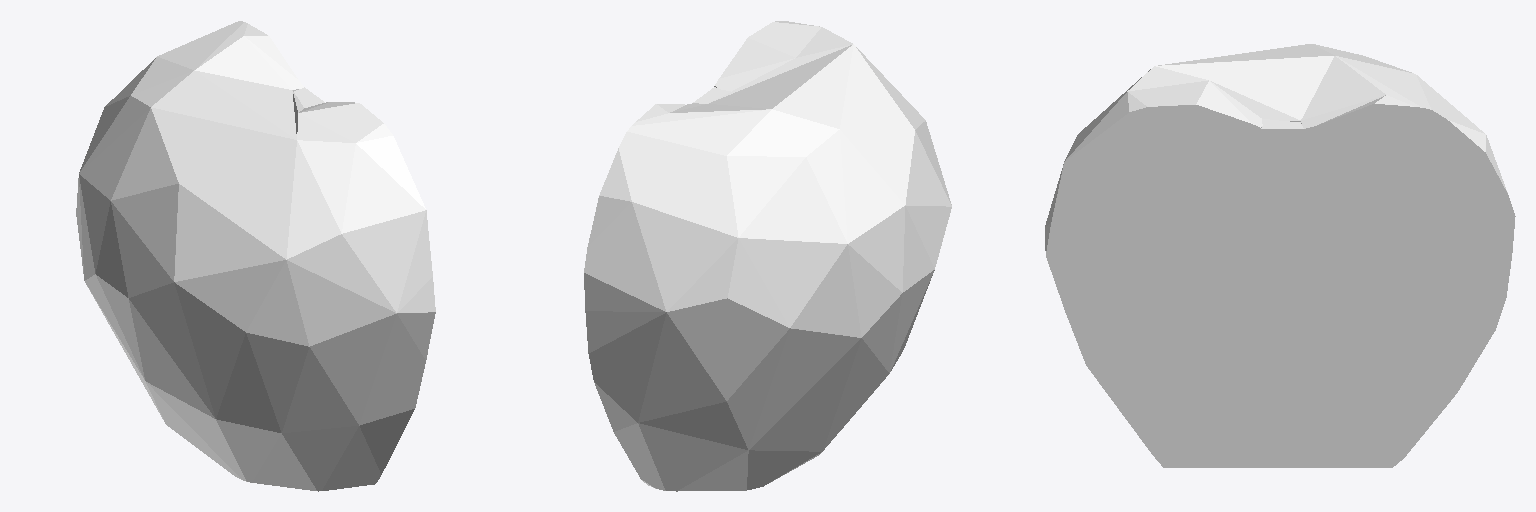
robot.urdf — cube.urdf:
<?xml version="0.0" ?>
<robot name="cube.urdf">
  <link name="baseLink">
    <contact>
      <lateral_friction value="0.3"/>
      <stiffness value="10000.0"/>
    </contact>
    <inertial>
      <origin rpy="0 0 0" xyz="0 0 0"/>
       <mass value="0.1"/>
       <inertia ixx="1" ixy="0" ixz="0" iyy="1" iyz="0" izz="1"/>
    </inertial>
    <visual>
      <origin rpy="0 0 0" xyz="0 0 0"/>
      <geometry>
            <mesh filename="apple_left.stl" scale="0.001 0.001 0.001"/>
      </geometry>
       <material name="white">
        <color rgba="1 1 1 1"/>
      </material>
    </visual>
    <collision>
      <origin rpy="0 0 0" xyz="0 0 0"/>
      <geometry>
	 	<mesh filename="apple_left.stl" scale="0.001 0.001 0.001"/>
      </geometry>
    </collision>
  </link>  
</robot>

--- Render facts (derived) ---
3 views of the same robot in one strip: view 1: azimuth 30°, elevation 25°; view 2: azimuth 150°, elevation 25°; view 3: azimuth 270°, elevation 25° (orthographic).
Model cube.urdf with 1 links and 0 joints (none), rooted at baseLink, posed all joints at 0.
Visible links, largest first — view 1: baseLink; view 2: baseLink; view 3: baseLink.
Link boxes in pixels (x1,y1,x2,y2): baseLink: [76, 21, 435, 491]; baseLink: [584, 21, 951, 491]; baseLink: [1045, 44, 1515, 467].
Size in the robot's own frame: 0.0315 by 0.0626 by 0.0539 metres.
1 mesh visuals loaded from 1 distinct referenced files (1 binary STL).